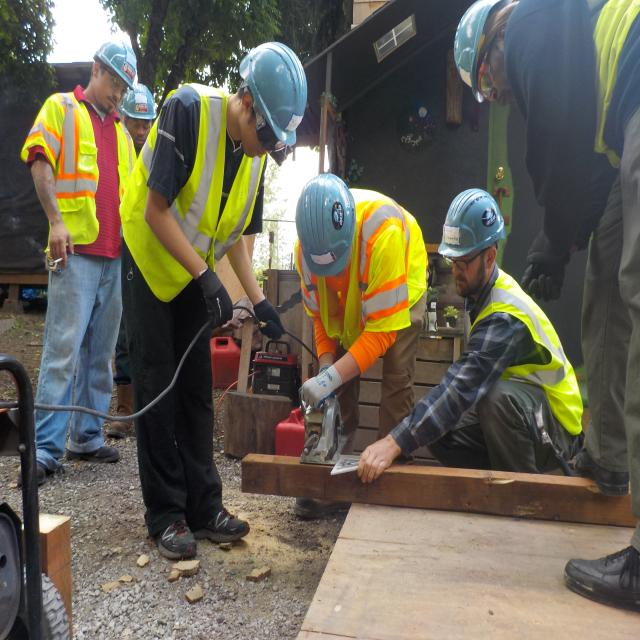Reflective-Jacket: (123, 88, 262, 295), (297, 192, 426, 345), (476, 275, 584, 435), (23, 93, 129, 254), (593, 0, 640, 167)
Safety-Helmet: (240, 36, 308, 149), (294, 171, 357, 260), (453, 0, 511, 92), (438, 184, 506, 260), (90, 39, 139, 89), (122, 80, 158, 119)
